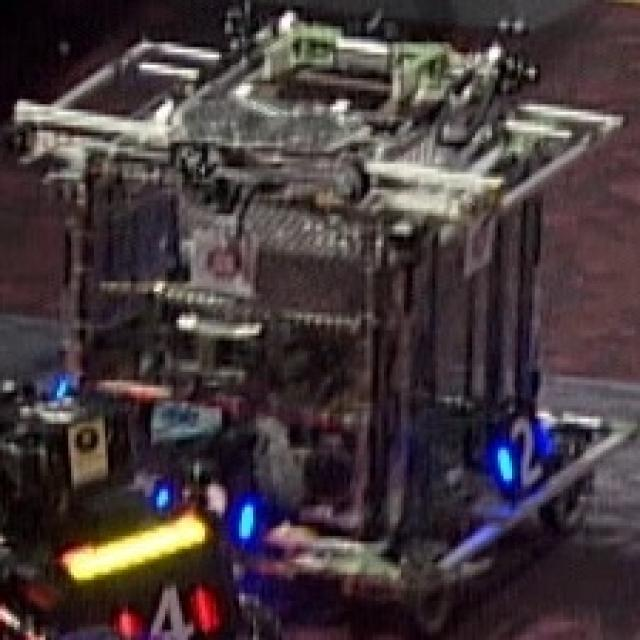B2: (495, 411, 552, 489)
R4: (117, 583, 219, 640)
